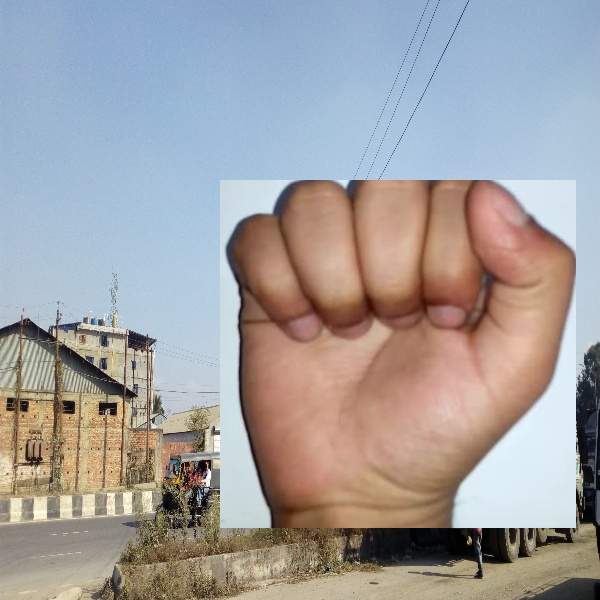A: (220, 180, 576, 528)
